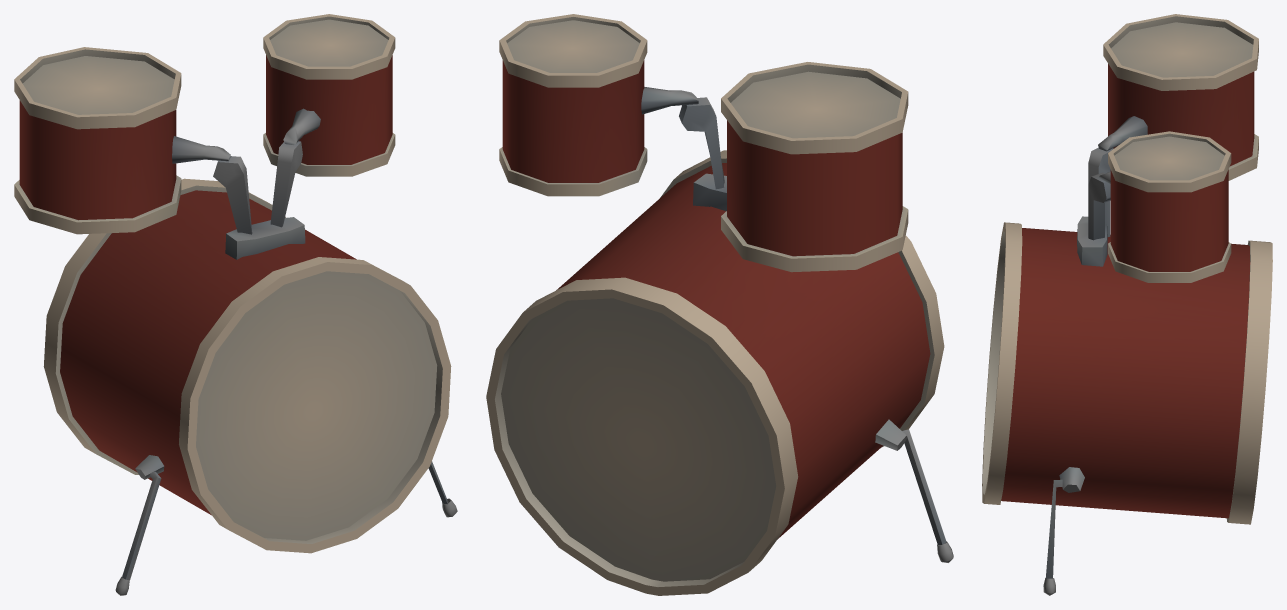
Rendered from human-music-drum-kit_v1.fbx.
3 renders of one model, left to right at view 1: azimuth 30°, elevation 25°; view 2: azimuth 150°, elevation 25°; view 3: azimuth 270°, elevation 25°, orthographic. The views are drawn at different scales.
Parts seen in each view (by area): view 1: Drum Kit; view 2: Drum Kit; view 3: Drum Kit.
Boxes of the visible parts, x1=… form: Drum Kit: x1=14, y1=14, x2=457, y2=595; Drum Kit: x1=486, y1=14, x2=953, y2=595; Drum Kit: x1=982, y1=14, x2=1272, y2=595.
Size of the model in its own units: 1 by 1.2 by 0.7525.
